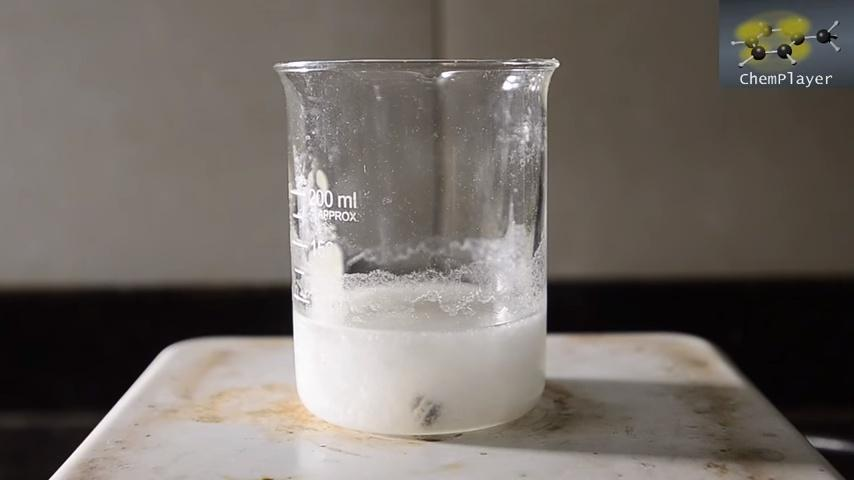Beaker: (243, 17, 583, 445)
